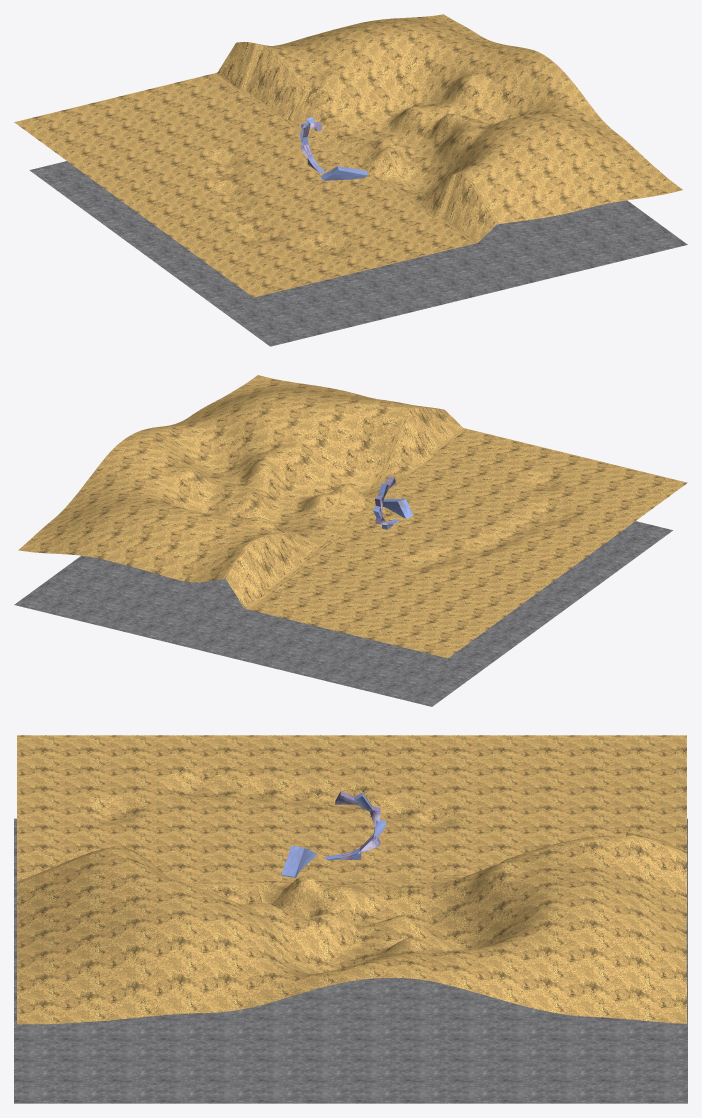
File: OldHillMap_scenery.fbx
3 renders of one model, top to bottom at view 1: azimuth 30°, elevation 25°; view 2: azimuth 150°, elevation 25°; view 3: azimuth 270°, elevation 25°, orthographic. The views are drawn at different scales.
Visible parts, largest first — view 1: pPlane1, pPlane2, pCube2; view 2: pPlane1, pPlane2; view 3: pPlane1, pPlane2, pCube2.
Part boxes in pixels (bbox=[...]): pPlane1: bbox=[14, 14, 682, 297]; pPlane2: bbox=[29, 161, 687, 346]; pCube2: bbox=[320, 166, 367, 180]; pPlane1: bbox=[18, 375, 687, 658]; pPlane2: bbox=[14, 521, 672, 706]; pPlane1: bbox=[17, 735, 686, 1024]; pPlane2: bbox=[14, 818, 687, 1103]; pCube2: bbox=[281, 845, 316, 877].
Size of the model in its own units: 1086 by 237 by 1047.
Materials: 4 (4 with a texture image).
